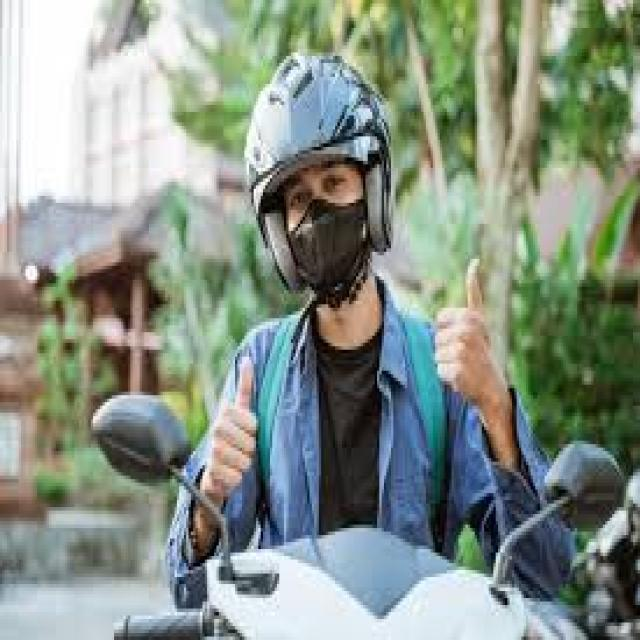Helmet: (246, 54, 393, 288)
